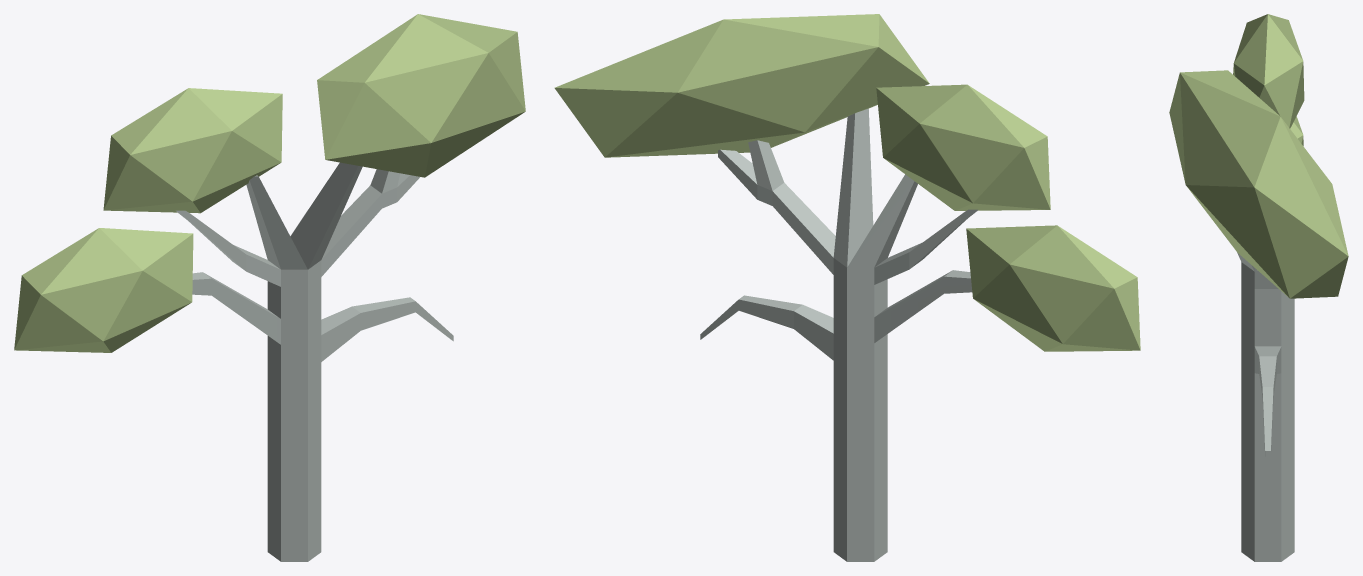
File: カポック_1.fbx
The picture shows the model from 3 angles, left to right: view 1: azimuth 30°, elevation 25°; view 2: azimuth 150°, elevation 25°; view 3: azimuth 270°, elevation 25°; orthographic projection.
Parts seen in each view (by area): view 1: ICO球.002, 円柱; view 2: ICO球.002, 円柱; view 3: ICO球.002, 円柱.
Part boxes in pixels (x1,y1,x2,y2): ICO球.002: [14, 14, 525, 352]; 円柱: [176, 162, 453, 561]; ICO球.002: [554, 14, 1140, 351]; 円柱: [700, 108, 977, 561]; ICO球.002: [1169, 14, 1348, 298]; 円柱: [1237, 252, 1294, 561].
Bounding box in the file's own units: 1399 × 1236 × 403.
